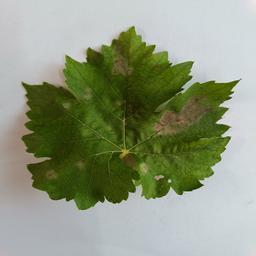Powdery-Mildew: (154, 94, 206, 138), (108, 43, 143, 84), (85, 117, 126, 150), (178, 146, 215, 182), (138, 155, 163, 197), (78, 90, 95, 107), (41, 165, 57, 182)
